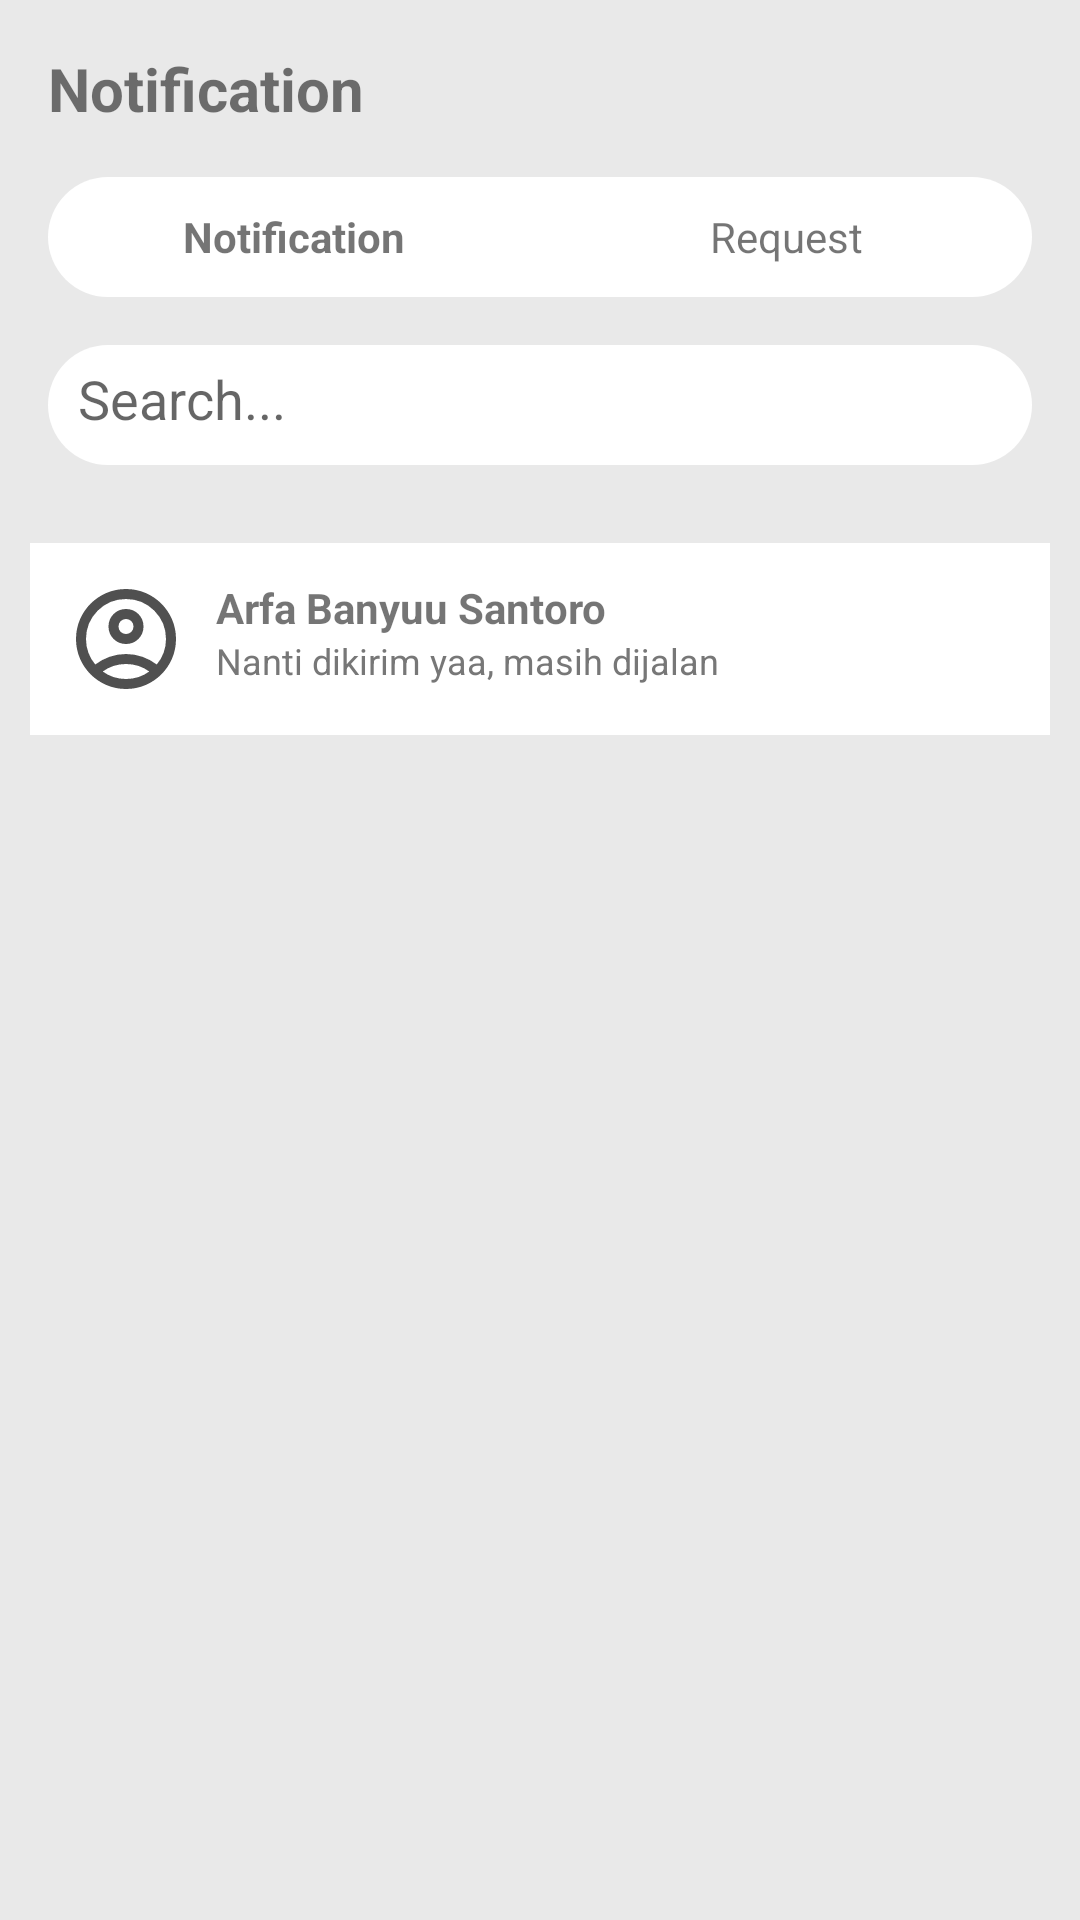

Screen size 1080x1920. Icon name, then its center in pixels as [x,y]:
account circle: [126,639]
